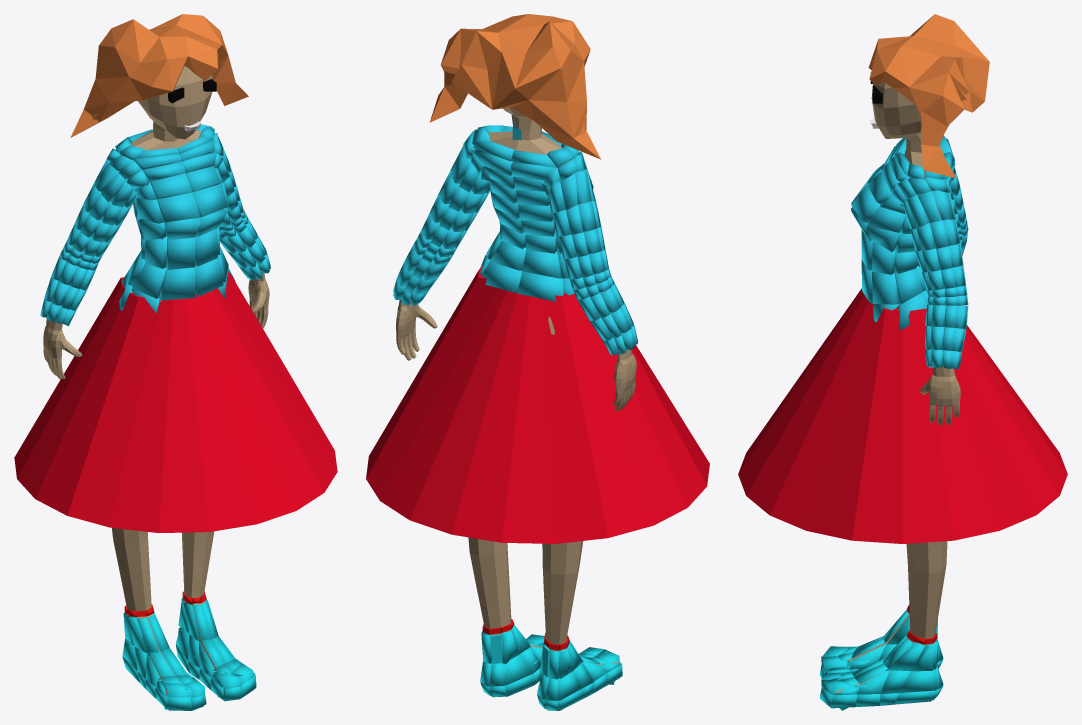
Rendered from niña.fbx.
The picture shows the model from 3 angles, left to right: view 1: azimuth 30°, elevation 25°; view 2: azimuth 150°, elevation 25°; view 3: azimuth 270°, elevation 25°; orthographic projection. The views are drawn at different scales.
Visible parts, largest first — view 1: Cilindro, Cube.003__0.006, Esfera.003, Cube.003__0.002, Cube.003__0.007; view 2: Cilindro, Cube.003__0.006, Esfera.003, Cube.003__0.002, Cube.003__0.007; view 3: Cilindro, Cube.003__0.006, Esfera.003, Cube.003__0.007, Cube.003__0.002.
Part boxes in pixels (<box>): Cilindro: <box>14,272,337,533</box>; Cube.003__0.006: <box>40,124,270,326</box>; Esfera.003: <box>70,14,248,137</box>; Cube.003__0.002: <box>43,66,269,694</box>; Cube.003__0.007: <box>122,598,256,710</box>; Cilindro: <box>366,265,709,543</box>; Cube.003__0.006: <box>393,117,637,355</box>; Esfera.003: <box>429,14,600,159</box>; Cube.003__0.002: <box>396,107,636,694</box>; Cube.003__0.007: <box>480,624,622,710</box>; Cilindro: <box>738,288,1067,543</box>; Cube.003__0.006: <box>851,136,968,369</box>; Esfera.003: <box>868,14,989,178</box>; Cube.003__0.007: <box>819,610,943,710</box>; Cube.003__0.002: <box>834,83,960,693</box>.
Size of the model in its own units: 138 by 306 by 138.
